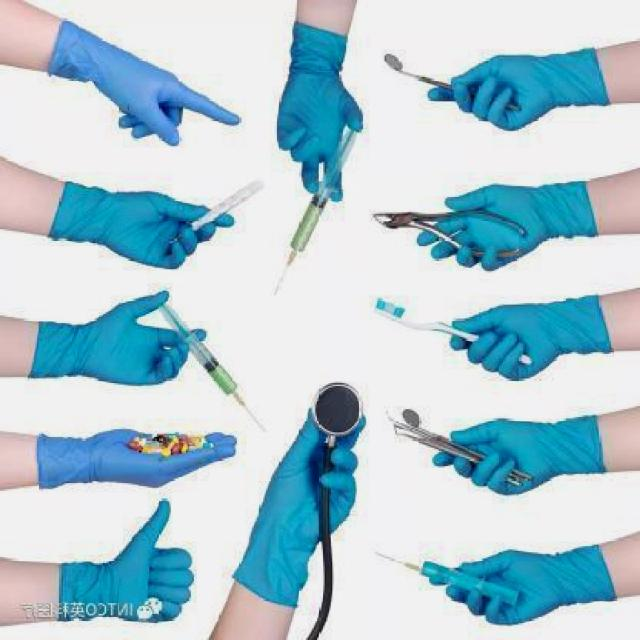hand_glove: (255, 404, 368, 548), (79, 494, 196, 626), (413, 178, 547, 274), (430, 407, 561, 502), (424, 539, 564, 626), (90, 285, 208, 387), (110, 58, 242, 147), (104, 188, 239, 272), (86, 422, 239, 495), (275, 84, 363, 201), (446, 294, 559, 380), (426, 54, 551, 129)
